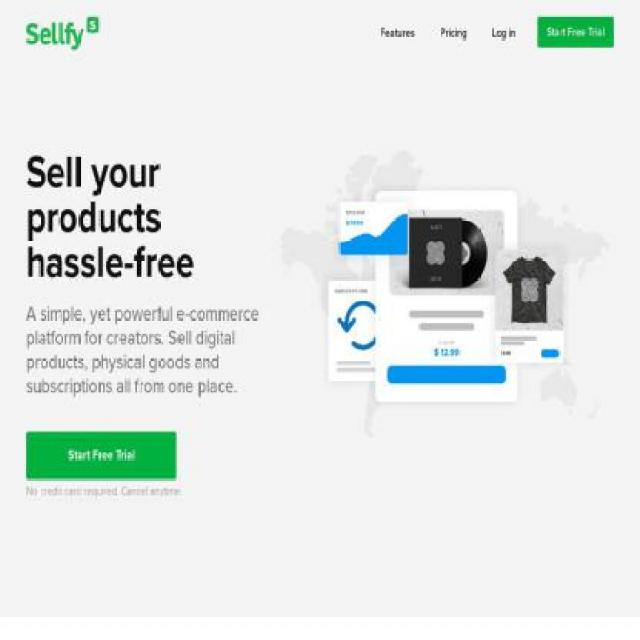button: (26, 432, 177, 479), (26, 8, 100, 50), (368, 8, 428, 58), (427, 8, 479, 58), (480, 8, 528, 58), (537, 17, 614, 48)
